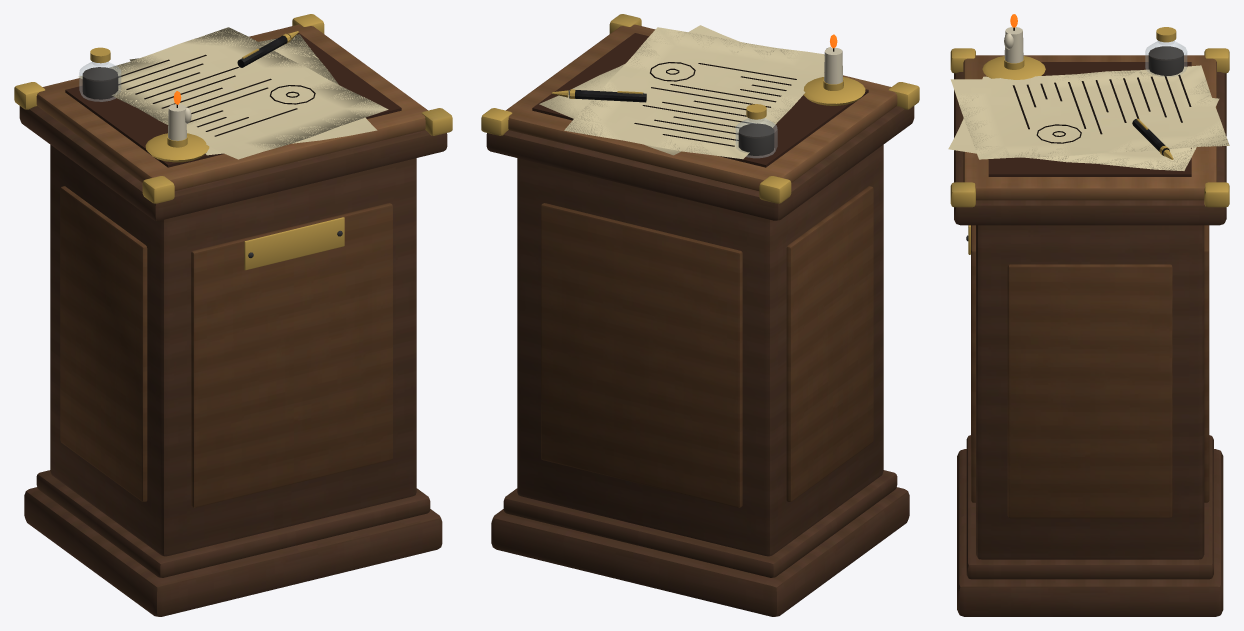
The model's file is diary_page.glb.
The picture shows the model from 3 angles, left to right: view 1: azimuth 30°, elevation 25°; view 2: azimuth 150°, elevation 25°; view 3: azimuth 270°, elevation 25°; orthographic projection.
Parts seen in each view (by area): view 1: diary_page_woodDark_m, diary_page_oakPainted_m, paper, topBoard, diary_page_brass_m, leather, pageUnder, paper_ink_m, inkwell, diary_page_ink_m, diary_page_cloth_m; view 2: diary_page_woodDark_m, diary_page_oakPainted_m, paper, topBoard, leather, diary_page_brass_m, paper_ink_m, pageUnder, inkwell, diary_page_ink_m, penBody, diary_page_cloth_m; view 3: diary_page_woodDark_m, diary_page_oakPainted_m, paper, topBoard, leather, diary_page_brass_m, pageUnder, paper_ink_m, inkwell, diary_page_ink_m, diary_page_cloth_m.
Part boxes in pixels (left/top/right/bottom): diary_page_woodDark_m: left=19, top=106, right=447, bottom=616; diary_page_oakPainted_m: left=60, top=186, right=392, bottom=507; paper: left=78, top=27, right=388, bottom=159; topBoard: left=36, top=24, right=427, bottom=190; diary_page_brass_m: left=14, top=14, right=452, bottom=270; leather: left=65, top=33, right=401, bottom=167; pageUnder: left=129, top=34, right=377, bottom=155; paper_ink_m: left=118, top=54, right=315, bottom=136; inkwell: left=79, top=61, right=120, bottom=101; diary_page_ink_m: left=82, top=67, right=177, bottom=107; diary_page_cloth_m: left=168, top=104, right=191, bottom=140; diary_page_woodDark_m: left=486, top=106, right=914, bottom=616; diary_page_oakPainted_m: left=541, top=186, right=873, bottom=507; paper: left=564, top=27, right=824, bottom=159; topBoard: left=506, top=24, right=897, bottom=190; leather: left=532, top=33, right=868, bottom=167; diary_page_brass_m: left=481, top=14, right=919, bottom=203; paper_ink_m: left=634, top=62, right=796, bottom=146; pageUnder: left=539, top=25, right=824, bottom=155; inkwell: left=736, top=118, right=777, bottom=157; diary_page_ink_m: left=738, top=48, right=834, bottom=155; penBody: left=569, top=90, right=646, bottom=102; diary_page_cloth_m: left=824, top=47, right=842, bottom=84; diary_page_woodDark_m: left=954, top=72, right=1226, bottom=616; diary_page_oakPainted_m: left=971, top=225, right=1209, bottom=518; paper: left=950, top=65, right=1229, bottom=159; topBoard: left=963, top=55, right=1216, bottom=200; leather: left=988, top=62, right=1191, bottom=176; diary_page_brass_m: left=950, top=27, right=1229, bottom=254; pageUnder: left=948, top=76, right=1219, bottom=170; paper_ink_m: left=1012, top=74, right=1191, bottom=143; inkwell: left=1145, top=40, right=1186, bottom=76; diary_page_ink_m: left=1013, top=27, right=1183, bottom=75; diary_page_cloth_m: left=1004, top=27, right=1023, bottom=63.
Size of the model in its own units: 0.54 by 0.854 by 0.4442.
12 materials, 8 textured.
